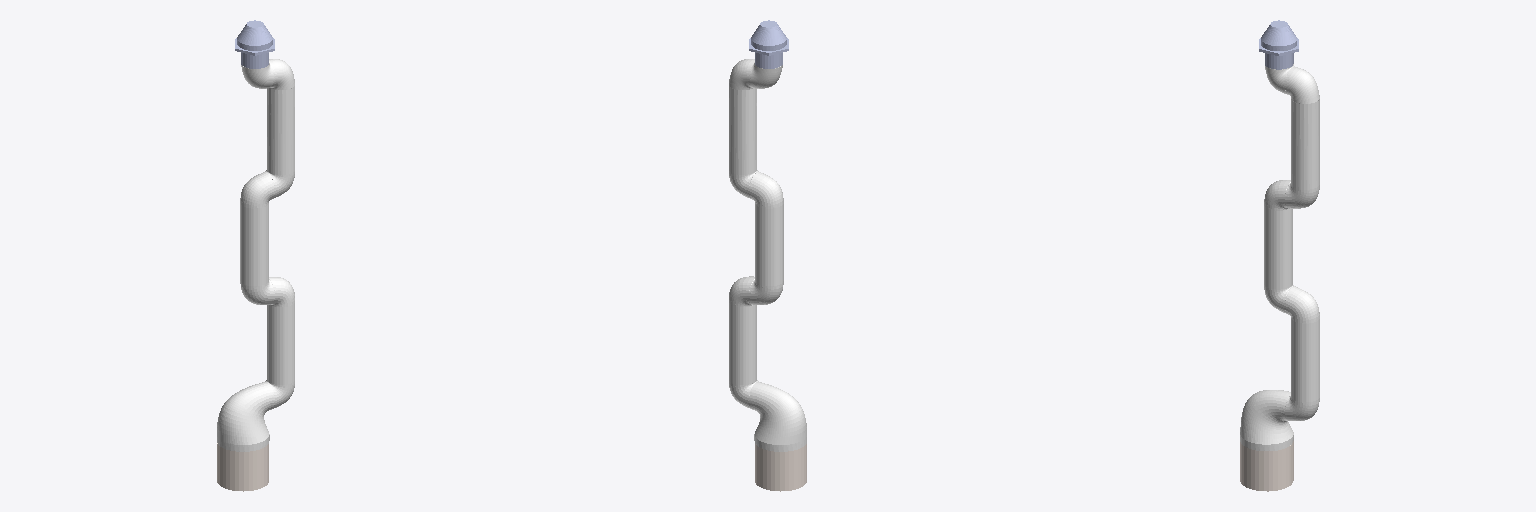
URDF robot description (nemo1):
<?xml version="1.0" encoding="utf-8"?>
<!-- This URDF was automatically created by SolidWorks to URDF Exporter! Originally created by Stephen Brawner (brawner@gmail.com) 
     Commit Version: 1.6.0-4-g7f85cfe  Build Version: 1.6.7995.38578
     For more information, please see http://wiki.ros.org/sw_urdf_exporter -->
<robot
  name="nemo1">
  <link
    name="base_link">
    <inertial>
      <origin
        xyz="-4.0251E-17 5.7935E-34 0.24074"
        rpy="0 0 0" />
      <mass
        value="39.819" />
      <inertia
        ixx="0.95808"
        ixy="9.1833E-33"
        ixz="1.4543E-18"
        iyy="0.95808"
        iyz="-2.0879E-32"
        izz="0.84991" />
    </inertial>
    <visual>
      <origin
        xyz="0 0 0"
        rpy="0 0 0" />
      <geometry>
        <mesh
          filename="package://nemo1/meshes/base_link.STL" />
      </geometry>
      <material
        name="">
        <color
          rgba="1 0.95686 0.92941 1" />
      </material>
    </visual>
    <collision>
      <origin
        xyz="0 0 0"
        rpy="0 0 0" />
      <geometry>
        <mesh
          filename="package://nemo1/meshes/base_link.STL" />
      </geometry>
    </collision>
  </link>
  <link
    name="link_1">
    <inertial>
      <origin
        xyz="0.010338 -0.0004773 0.18391"
        rpy="0 0 0" />
      <mass
        value="49.442" />
      <inertia
        ixx="0.72708"
        ixy="0.0024865"
        ixz="-0.12127"
        iyy="0.89497"
        iyz="-0.00065038"
        izz="0.71565" />
    </inertial>
    <visual>
      <origin
        xyz="0 0 0"
        rpy="0 0 0" />
      <geometry>
        <mesh
          filename="package://nemo1/meshes/link_1.STL" />
      </geometry>
      <material
        name="">
        <color
          rgba="1 1 1 1" />
      </material>
    </visual>
    <collision>
      <origin
        xyz="0 0 0"
        rpy="0 0 0" />
      <geometry>
        <mesh
          filename="package://nemo1/meshes/link_1.STL" />
      </geometry>
    </collision>
  </link>
  <joint
    name="J1"
    type="revolute">
    <origin
      xyz="0 0 0.305"
      rpy="0 0 0" />
    <parent
      link="base_link" />
    <child
      link="link_1" />
    <axis
      xyz="0 0 1" />
    <limit
      lower="-3.14"
      upper="3.14"
      effort="2000"
      velocity="0.8" />
  </joint>
  <link
    name="link_2">
    <inertial>
      <origin
        xyz="-0.405 -7.1675E-05 0.1354"
        rpy="0 0 0" />
      <mass
        value="23.562" />
      <inertia
        ixx="0.13291"
        ixy="-7.5138E-07"
        ixz="2.3007E-07"
        iyy="3.415"
        iyz="5.699E-05"
        izz="3.4052" />
    </inertial>
    <visual>
      <origin
        xyz="0 0 0"
        rpy="0 0 0" />
      <geometry>
        <mesh
          filename="package://nemo1/meshes/link_2.STL" />
      </geometry>
      <material
        name="">
        <color
          rgba="1 1 1 1" />
      </material>
    </visual>
    <collision>
      <origin
        xyz="0 0 0"
        rpy="0 0 0" />
      <geometry>
        <mesh
          filename="package://nemo1/meshes/link_2.STL" />
      </geometry>
    </collision>
  </link>
  <joint
    name="J2"
    type="revolute">
    <origin
      xyz="0.15 0 0.3"
      rpy="0 1.5707963267949 0" />
    <parent
      link="link_1" />
    <child
      link="link_2" />
    <axis
      xyz="0 0 -1" />
    <limit
      lower="-3.14"
      upper="3.14"
      effort="2000"
      velocity="0.8" />
  </joint>
  <link
    name="link_3">
    <inertial>
      <origin
        xyz="-0.41186 -7.289E-05 -0.086846"
        rpy="0 0 0" />
      <mass
        value="23.169" />
      <inertia
        ixx="0.12961"
        ixy="1.2349E-05"
        ixz="0.013812"
        iyy="3.3462"
        iyz="-5.4544E-05"
        izz="3.3396" />
    </inertial>
    <visual>
      <origin
        xyz="0 0 0"
        rpy="0 0 0" />
      <geometry>
        <mesh
          filename="package://nemo1/meshes/link_3.STL" />
      </geometry>
      <material
        name="">
        <color
          rgba="1 1 1 1" />
      </material>
    </visual>
    <collision>
      <origin
        xyz="0 0 0"
        rpy="0 0 0" />
      <geometry>
        <mesh
          filename="package://nemo1/meshes/link_3.STL" />
      </geometry>
    </collision>
  </link>
  <joint
    name="J3"
    type="revolute">
    <origin
      xyz="-0.81 0 0.05"
      rpy="0 0 0" />
    <parent
      link="link_2" />
    <child
      link="link_3" />
    <axis
      xyz="0 0 -1" />
    <limit
      lower="-3.14"
      upper="3.14"
      effort="2000"
      velocity="0.8" />
  </joint>
  <link
    name="link_4">
    <inertial>
      <origin
        xyz="-0.20303 5.5903E-05 0.093029"
        rpy="0 0 0" />
      <mass
        value="15.206" />
      <inertia
        ixx="0.087692"
        ixy="-0.00022912"
        ixz="0.046098"
        iyy="1.3816"
        iyz="-2.2268E-05"
        izz="1.3789" />
    </inertial>
    <visual>
      <origin
        xyz="0 0 0"
        rpy="0 0 0" />
      <geometry>
        <mesh
          filename="package://nemo1/meshes/link_4.STL" />
      </geometry>
      <material
        name="">
        <color
          rgba="1 1 1 1" />
      </material>
    </visual>
    <collision>
      <origin
        xyz="0 0 0"
        rpy="0 0 0" />
      <geometry>
        <mesh
          filename="package://nemo1/meshes/link_4.STL" />
      </geometry>
    </collision>
  </link>
  <joint
    name="J4"
    type="revolute">
    <origin
      xyz="-0.81 0 0"
      rpy="0 0 0" />
    <parent
      link="link_3" />
    <child
      link="link_4" />
    <axis
      xyz="0 0 1" />
    <limit
      lower="-3.14"
      upper="3.14"
      effort="2000"
      velocity="0.8" />
  </joint>
  <link
    name="link_5">
    <inertial>
      <origin
        xyz="0.023474 7.7273E-05 0.13435"
        rpy="0 0 0" />
      <mass
        value="11.232" />
      <inertia
        ixx="0.058934"
        ixy="7.6333E-05"
        ixz="-0.0089365"
        iyy="0.06121"
        iyz="-3.0975E-05"
        izz="0.056584" />
    </inertial>
    <visual>
      <origin
        xyz="0 0 0"
        rpy="0 0 0" />
      <geometry>
        <mesh
          filename="package://nemo1/meshes/link_5.STL" />
      </geometry>
      <material
        name="">
        <color
          rgba="1 1 1 1" />
      </material>
    </visual>
    <collision>
      <origin
        xyz="0 0 0"
        rpy="0 0 0" />
      <geometry>
        <mesh
          filename="package://nemo1/meshes/link_5.STL" />
      </geometry>
    </collision>
  </link>
  <joint
    name="J5"
    type="revolute">
    <origin
      xyz="-0.707 0 0.107"
      rpy="3.14159265358979 1.5707963267949 0" />
    <parent
      link="link_4" />
    <child
      link="link_5" />
    <axis
      xyz="0 0 -1" />
    <limit
      lower="-3.14"
      upper="3.14"
      effort="2000"
      velocity="0.8" />
  </joint>
  <link
    name="link_6">
    <inertial>
      <origin
        xyz="-0.023472 8.0222E-05 0.08448"
        rpy="0 0 0" />
      <mass
        value="10.839" />
      <inertia
        ixx="0.053489"
        ixy="-3.1793E-05"
        ixz="0.0081853"
        iyy="0.057908"
        iyz="-7.3889E-05"
        izz="0.058602" />
    </inertial>
    <visual>
      <origin
        xyz="0 0 0"
        rpy="0 0 0" />
      <geometry>
        <mesh
          filename="package://nemo1/meshes/link_6.STL" />
      </geometry>
      <material
        name="">
        <color
          rgba="1 1 1 1" />
      </material>
    </visual>
    <collision>
      <origin
        xyz="0 0 0"
        rpy="0 0 0" />
      <geometry>
        <mesh
          filename="package://nemo1/meshes/link_6.STL" />
      </geometry>
    </collision>
  </link>
  <joint
    name="J6"
    type="revolute">
    <origin
      xyz="0.105 0 0.157"
      rpy="0 1.5708 0" />
    <parent
      link="link_5" />
    <child
      link="link_6" />
    <axis
      xyz="0 0 1" />
    <limit
      lower="-3.14"
      upper="3.14"
      effort="2000"
      velocity="0.8" />
  </joint>
  <link
    name="EE">
    <inertial>
      <origin
        xyz="-3.8804E-08 -1.3523E-08 0.14436"
        rpy="0 0 0" />
      <mass
        value="10.348" />
      <inertia
        ixx="0.090992"
        ixy="-1.3474E-08"
        ixz="5.0453E-08"
        iyy="0.090992"
        iyz="1.7583E-08"
        izz="0.066002" />
    </inertial>
    <visual>
      <origin
        xyz="0 0 0"
        rpy="0 0 0" />
      <geometry>
        <mesh
          filename="package://nemo1/meshes/EE.STL" />
      </geometry>
      <material
        name="">
        <color
          rgba="0.79216 0.81961 0.93333 1" />
      </material>
    </visual>
    <collision>
      <origin
        xyz="0 0 0"
        rpy="0 0 0" />
      <geometry>
        <mesh
          filename="package://nemo1/meshes/EE.STL" />
      </geometry>
    </collision>
  </link>
  <joint
    name="J7"
    type="revolute">
    <origin
      xyz="-0.107 0 0.105"
      rpy="3.14159265358979 1.5707963267949 0" />
    <parent
      link="link_6" />
    <child
      link="EE" />
    <axis
      xyz="0 0 1" />
    <limit
      lower="-3.14"
      upper="3.14"
      effort="2000"
      velocity="0.8" />
  </joint>
</robot>

--- Render facts (derived) ---
Views: 3 orthographic renders of the robot side by side, from view 1: azimuth 30°, elevation 25°; view 2: azimuth 150°, elevation 25°; view 3: azimuth 330°, elevation 25°.
Model nemo1 with 8 links and 7 joints (7 revolute), rooted at base_link, posed every joint at zero.
Links seen in each view (by area): view 1: link_3, link_2, link_1, link_4, base_link, EE, link_6, link_5; view 2: link_3, link_2, link_1, link_4, base_link, EE, link_6, link_5; view 3: link_2, link_3, link_4, link_1, base_link, EE, link_5.
Boxes of the visible links, left/top/right/bottom form: link_3: left=240, top=172, right=274, bottom=304; link_2: left=265, top=277, right=294, bottom=408; link_1: left=217, top=382, right=274, bottom=451; link_4: left=265, top=86, right=294, bottom=198; base_link: left=217, top=443, right=268, bottom=491; EE: left=235, top=20, right=274, bottom=68; link_6: left=241, top=62, right=274, bottom=88; link_5: left=269, top=59, right=294, bottom=89; link_3: left=749, top=172, right=783, bottom=304; link_2: left=729, top=276, right=758, bottom=408; link_1: left=749, top=382, right=806, bottom=451; link_4: left=729, top=86, right=758, bottom=198; base_link: left=755, top=444, right=806, bottom=491; EE: left=749, top=20, right=788, bottom=68; link_6: left=749, top=62, right=782, bottom=88; link_5: left=729, top=59, right=754, bottom=89; link_2: left=1285, top=286, right=1319, bottom=420; link_3: left=1264, top=180, right=1295, bottom=313; link_4: left=1285, top=99, right=1319, bottom=208; link_1: left=1240, top=390, right=1293, bottom=450; base_link: left=1240, top=441, right=1293, bottom=491; EE: left=1259, top=20, right=1298, bottom=69; link_5: left=1285, top=67, right=1319, bottom=103.
Bounding box of the posed robot: 0.592 × 0.3697 × 3.5 m (x, y, z).
8 mesh visuals loaded from 8 distinct referenced files (8 binary STL).
